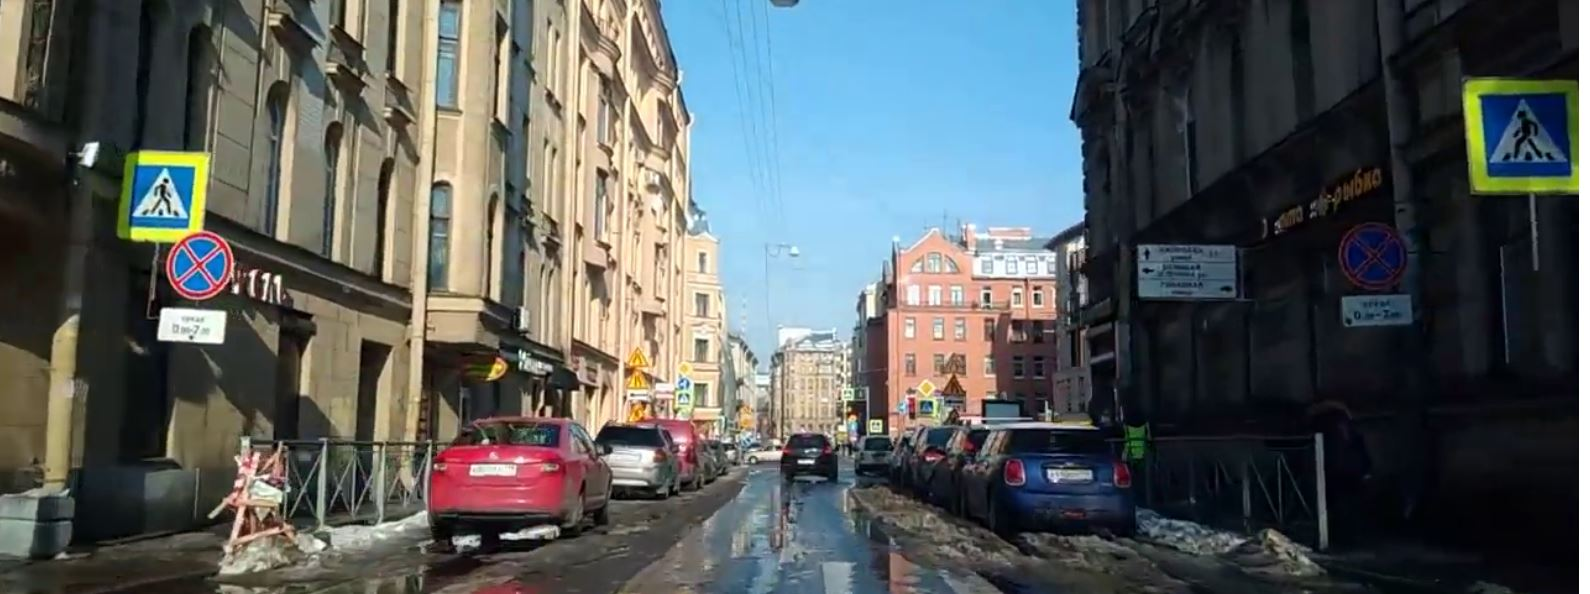Yaya Gecidi: (1486, 96, 1566, 180), (131, 164, 195, 230)
